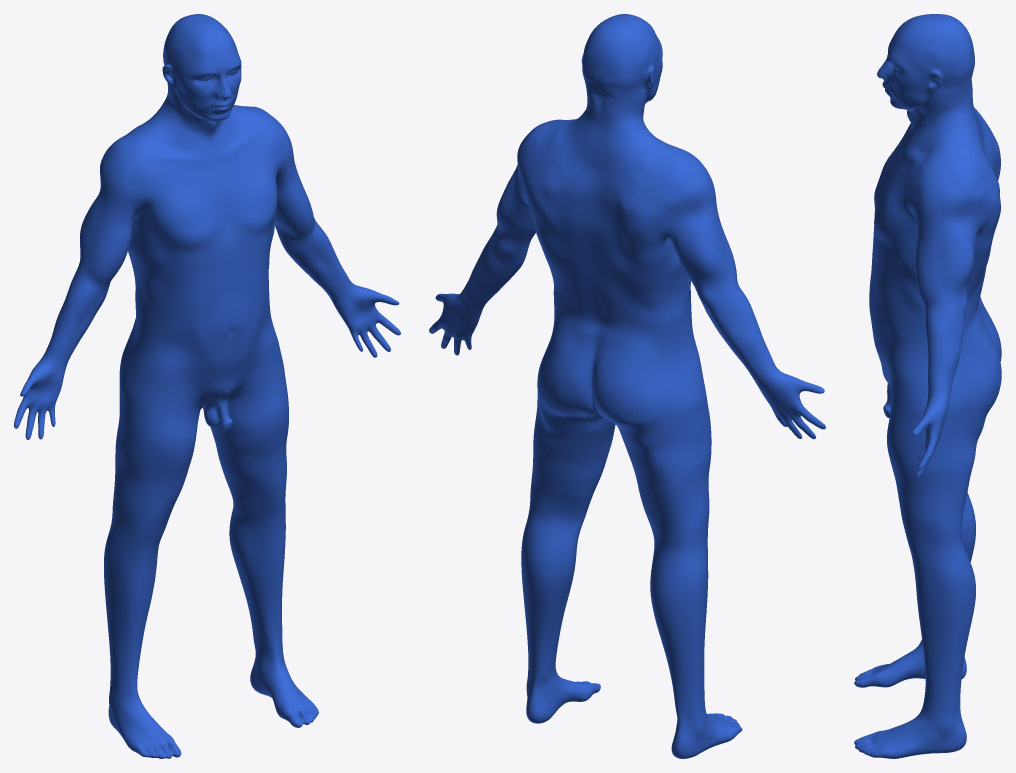
File: human_body_skin.glb
The picture shows the model from 3 angles, left to right: view 1: azimuth 30°, elevation 25°; view 2: azimuth 150°, elevation 25°; view 3: azimuth 270°, elevation 25°; orthographic projection. The views are drawn at different scales.
Parts seen in each view (by area): view 1: VHM_skin; view 2: VHM_skin; view 3: VHM_skin.
Boxes of the visible parts, left/top/right/bottom form: VHM_skin: left=14, top=14, right=400, bottom=758; VHM_skin: left=429, top=14, right=825, bottom=758; VHM_skin: left=854, top=14, right=1001, bottom=758.
Size of the model in its own units: 1.05 by 1.81 by 0.3453.
